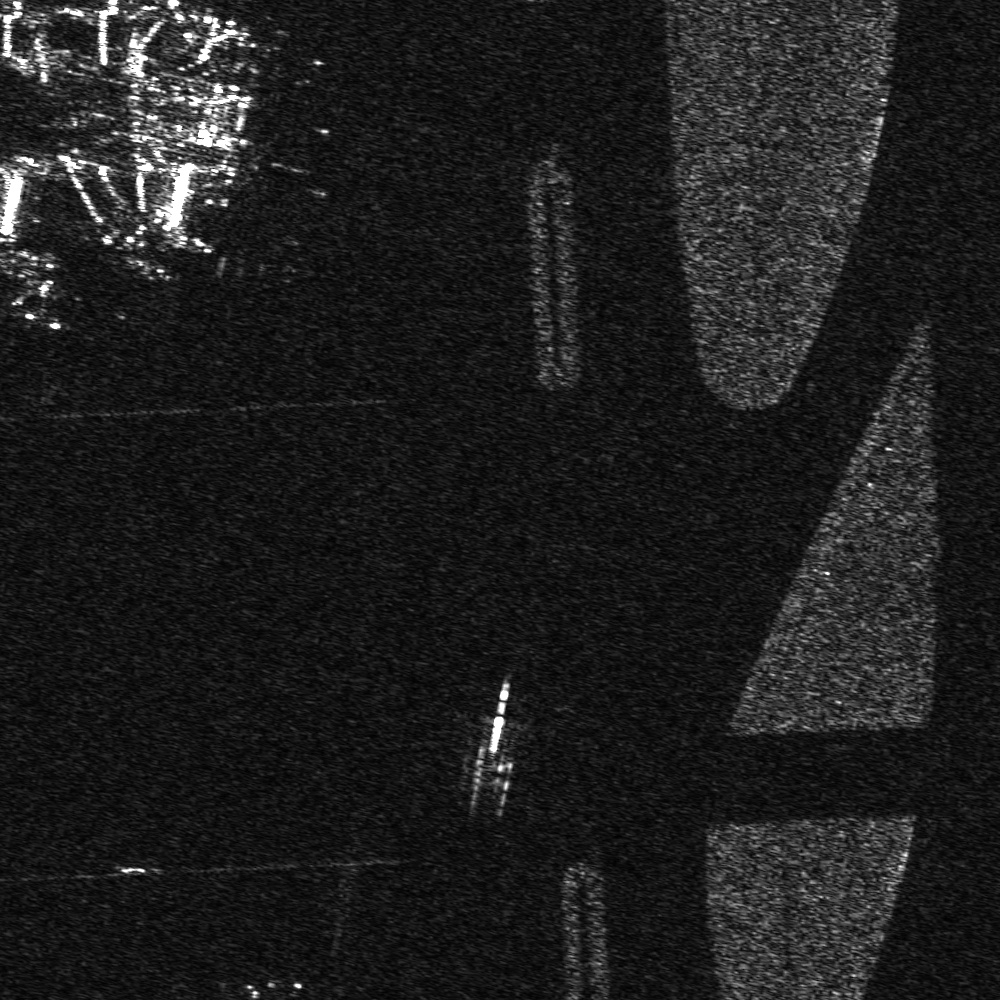A320/321: (220, 967, 310, 999)
other: (9, 257, 81, 331)
